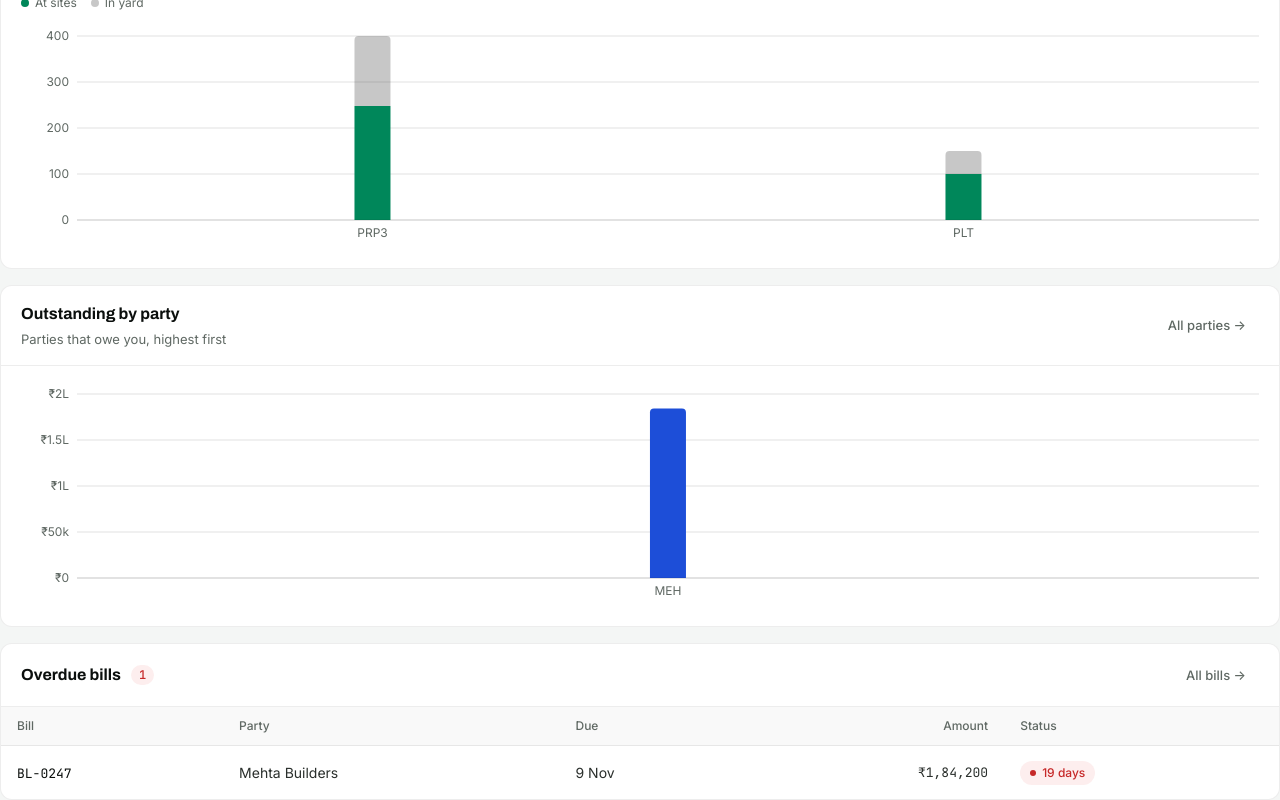
DashboardPage › opens an overdue bill on row click with the overdue list as context
(page scrolled)
Click the text "Mehta Builders" at (289, 772), box [223,746,560,799]
(page scrolled)
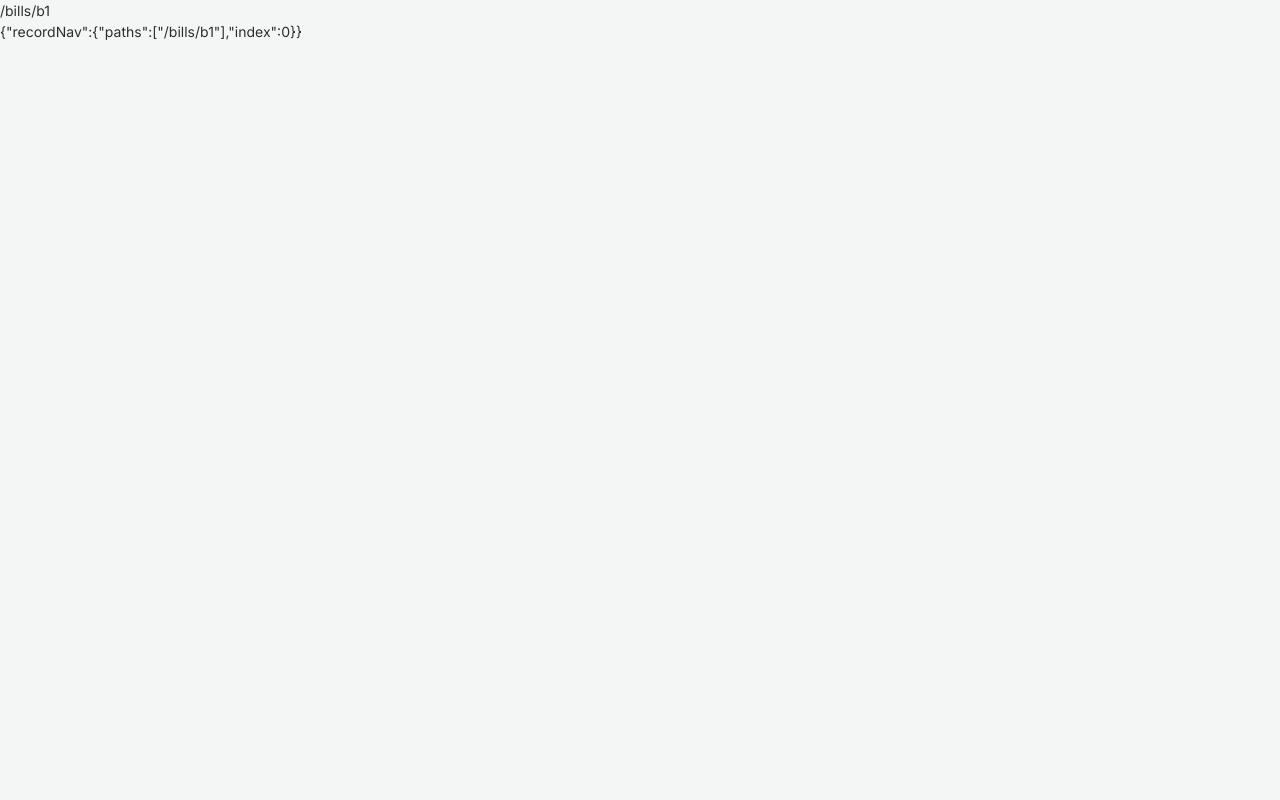
Expected: the text with test id "where" reads "/bills/b1", [0,2,50,19]
